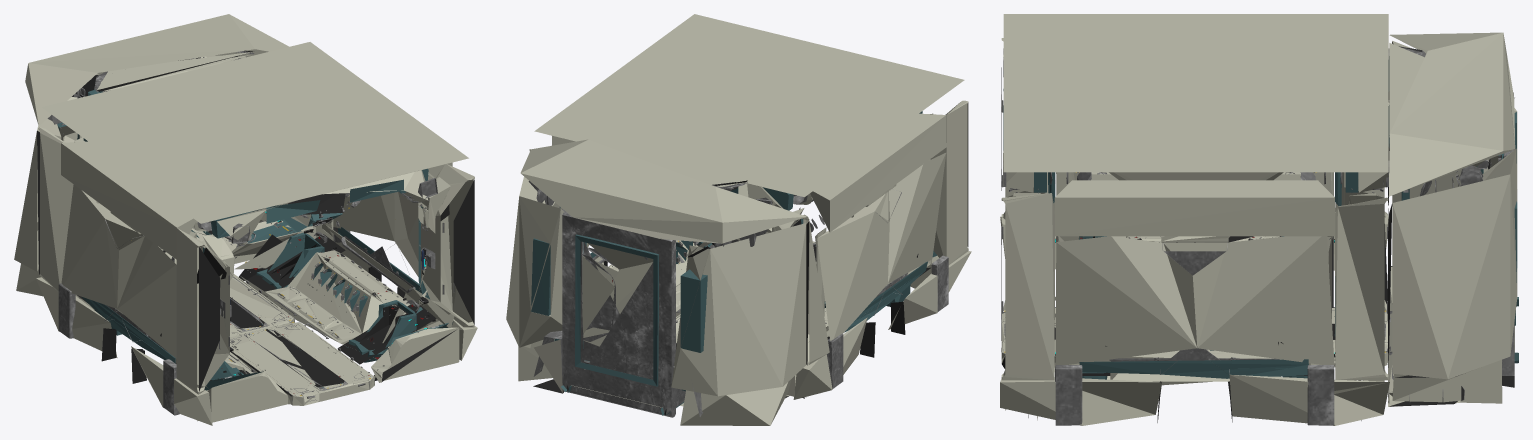
Rendered from hallway.glb.
3 renders of one model, left to right at view 1: azimuth 30°, elevation 25°; view 2: azimuth 150°, elevation 25°; view 3: azimuth 270°, elevation 25°, orthographic. The views are drawn at different scales.
Parts seen in each view (by area): view 1: Slice.003_Piece.016_1Plastic.001_0, Slice.003_Piece.016_1Rubber.001_0, Slice.003_Piece.001_Piece.006_1Metal_painted.001_0, Slice.003_Piece.016_1Metal.001_0; view 2: Slice.003_Piece.016_1Plastic.001_0, Slice.003_Piece.016_1Metal.001_0, Slice.003_Piece.001_Piece.006_1Metal_painted.001_0, Slice.003_Piece.016_1Rubber.001_0; view 3: Slice.003_Piece.016_1Plastic.001_0, Slice.003_Piece.016_1Metal.001_0, Slice.003_Piece.001_Piece.006_1Metal_painted.001_0, Slice.003_Piece.016_1Rubber.001_0.
Part boxes in pixels (x1,y1,x2,y2): Slice.003_Piece.016_1Plastic.001_0: (14,14,477,425); Slice.003_Piece.016_1Rubber.001_0: (37,50,474,398); Slice.003_Piece.001_Piece.006_1Metal_painted.001_0: (57,89,453,390); Slice.003_Piece.016_1Metal.001_0: (47,51,454,415); Slice.003_Piece.016_1Plastic.001_0: (506,14,971,425); Slice.003_Piece.016_1Metal.001_0: (528,181,948,417); Slice.003_Piece.001_Piece.006_1Metal_painted.001_0: (531,111,936,415); Slice.003_Piece.016_1Rubber.001_0: (533,102,968,414); Slice.003_Piece.016_1Plastic.001_0: (1000,14,1517,425); Slice.003_Piece.016_1Metal.001_0: (1001,46,1514,425); Slice.003_Piece.001_Piece.006_1Metal_painted.001_0: (1003,56,1518,379); Slice.003_Piece.016_1Rubber.001_0: (1001,42,1514,422).
Bounding box in the file's own units: 4.47 × 3.29 × 5.91.
Materials: 11 (2 with a texture image).
